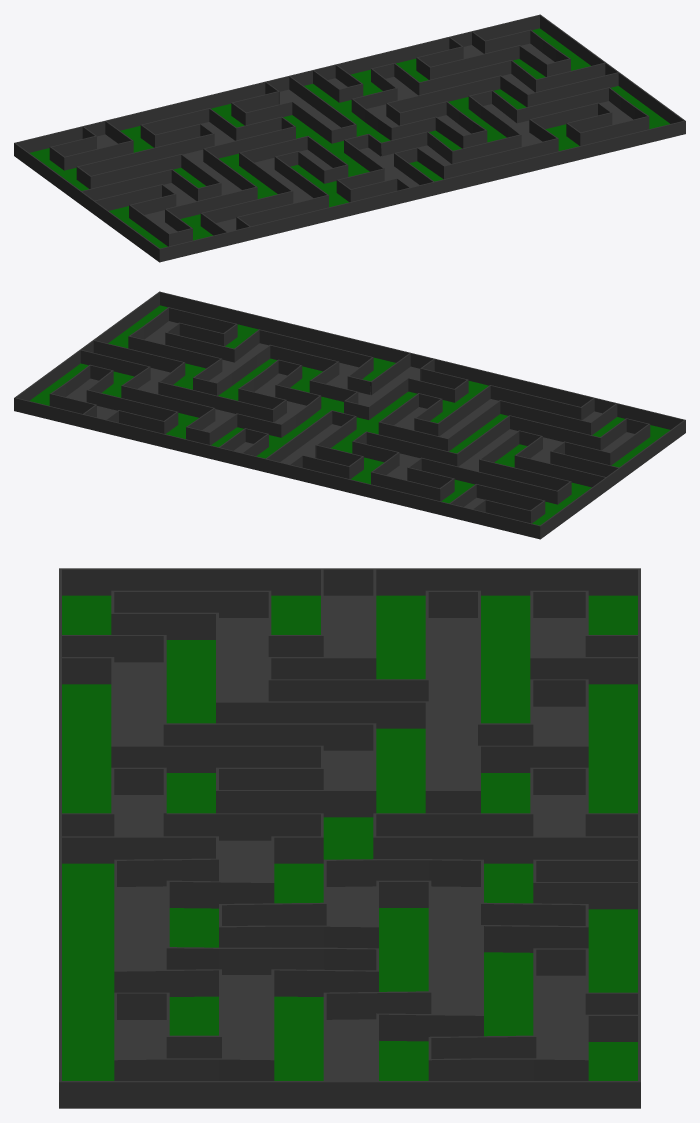
Rendered from maze_2.fbx.
3 views of the same model, one above another, from view 1: azimuth 30°, elevation 25°; view 2: azimuth 150°, elevation 25°; view 3: azimuth 270°, elevation 25° (orthographic). The views are drawn at different scales.
Visible parts, largest first — view 1: Плоскость; view 2: Плоскость; view 3: Плоскость.
Boxes of the visible parts, x1,y1,x2,y2 form: Плоскость: (14,14,685,262); Плоскость: (14,291,685,539); Плоскость: (59,568,640,1108).
Bounding box in the file's own units: 21100 × 501 × 10100.
